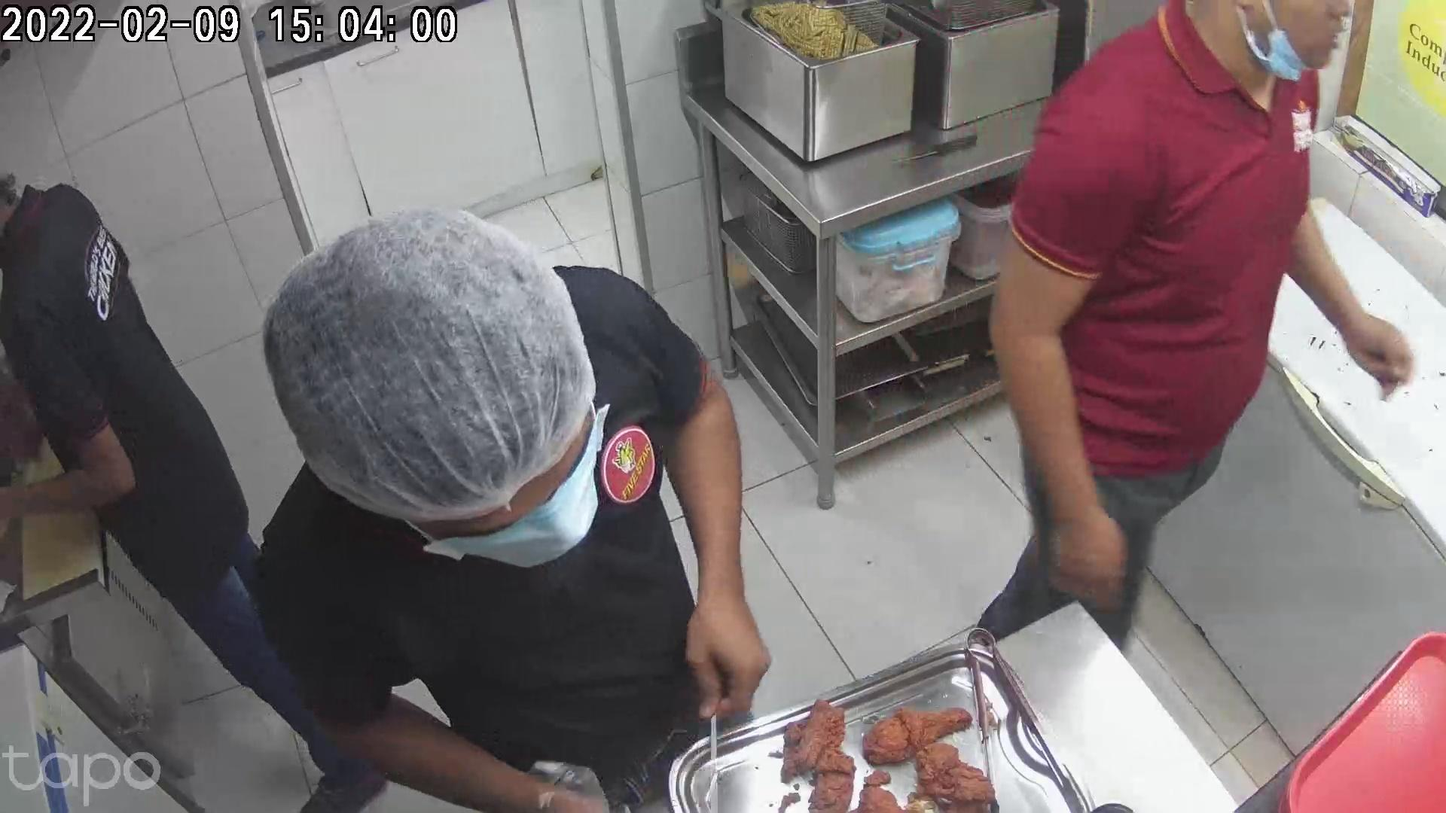no_gloves: (690, 550, 763, 719)
